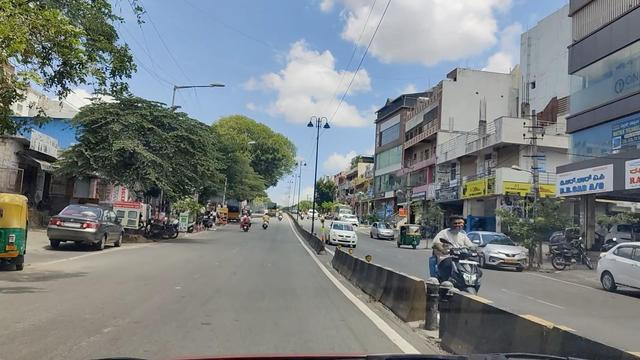LMV: (43, 190, 114, 249), (238, 207, 250, 229), (262, 210, 272, 232)
